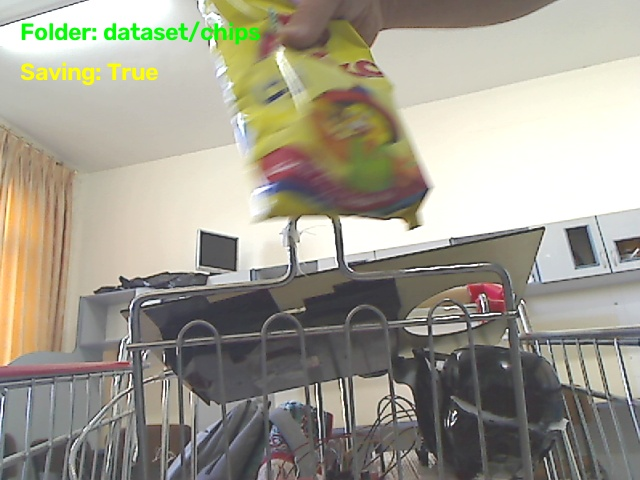chips: (199, 0, 428, 227)
